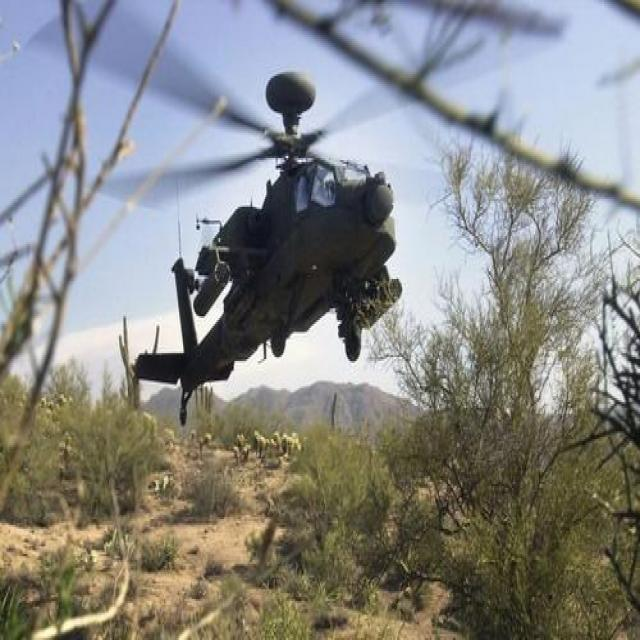MIL_HELO: (40, 0, 517, 439)
